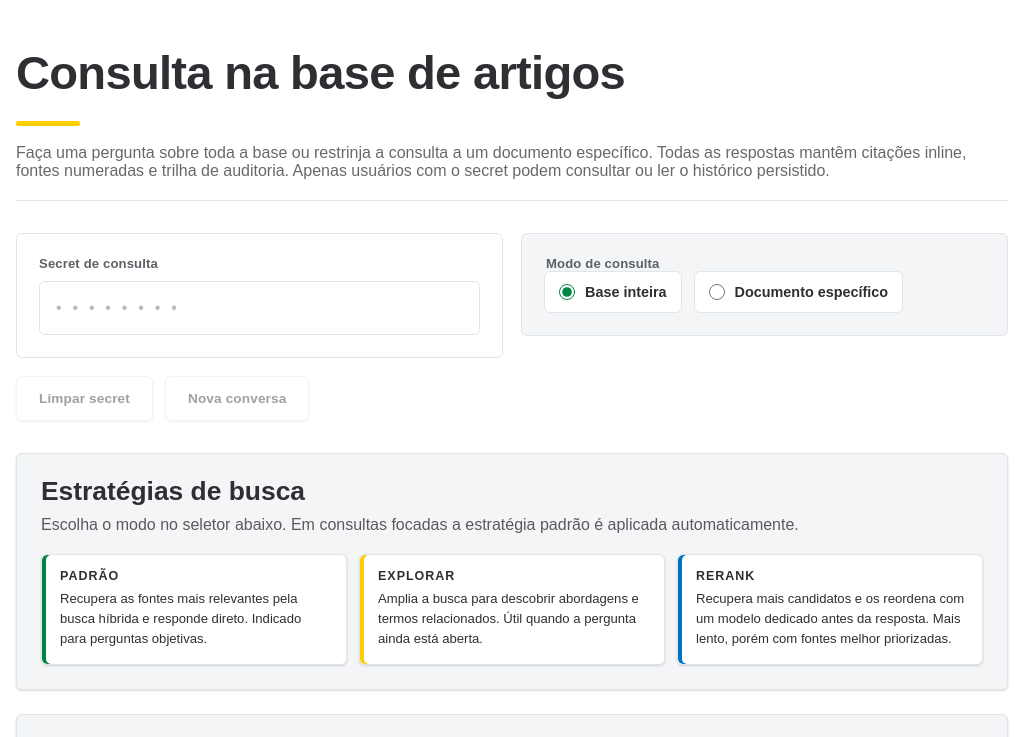
Test case: /query page › renders related terms inline during the explore stream
Type "query-secret-value" into the password field labelled "Secret de consulta" at coordinates (260, 308), box [39,281,480,335]
(page scrolled)
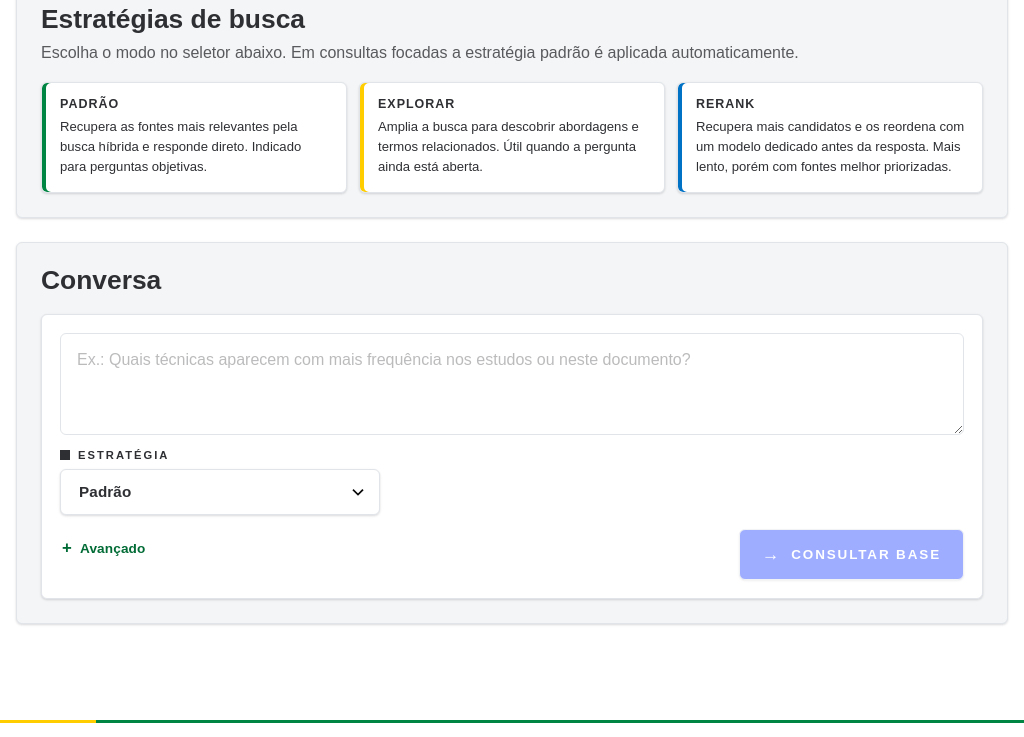
Replace the text in the text box named "pergunta" with "Quais tecnicas aparecem com mais frequencia?" at coordinates (512, 384), box [60,333,964,435]
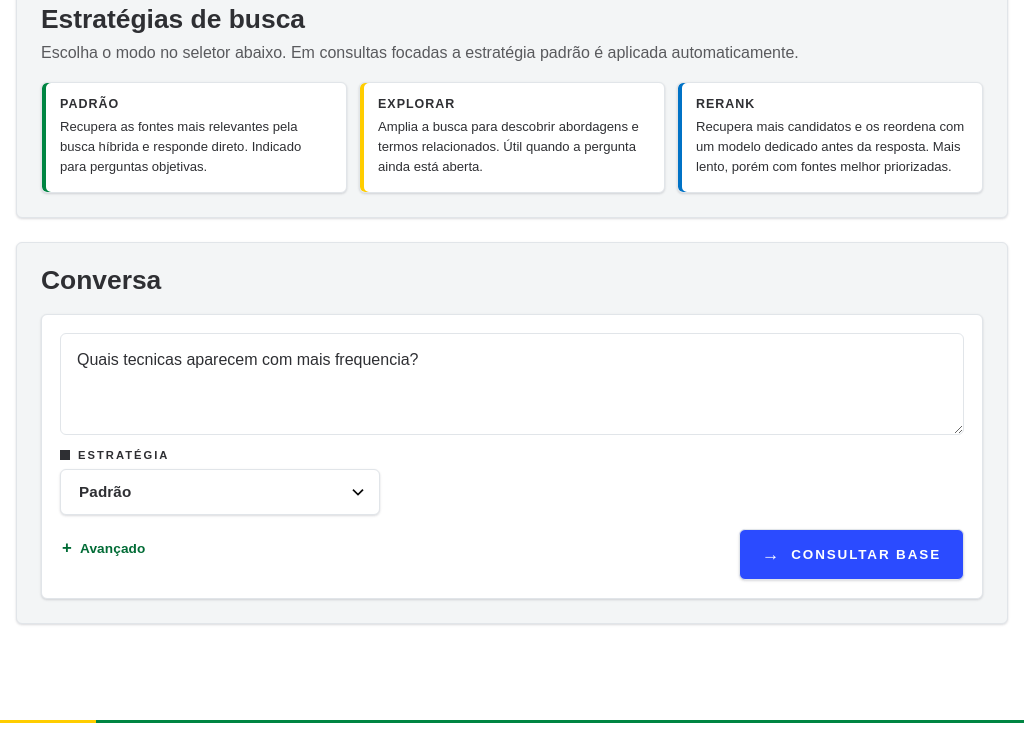
Select "Explorar" in the dropdown labelled "Estratégia" at coordinates (220, 492), box [60,469,380,515]
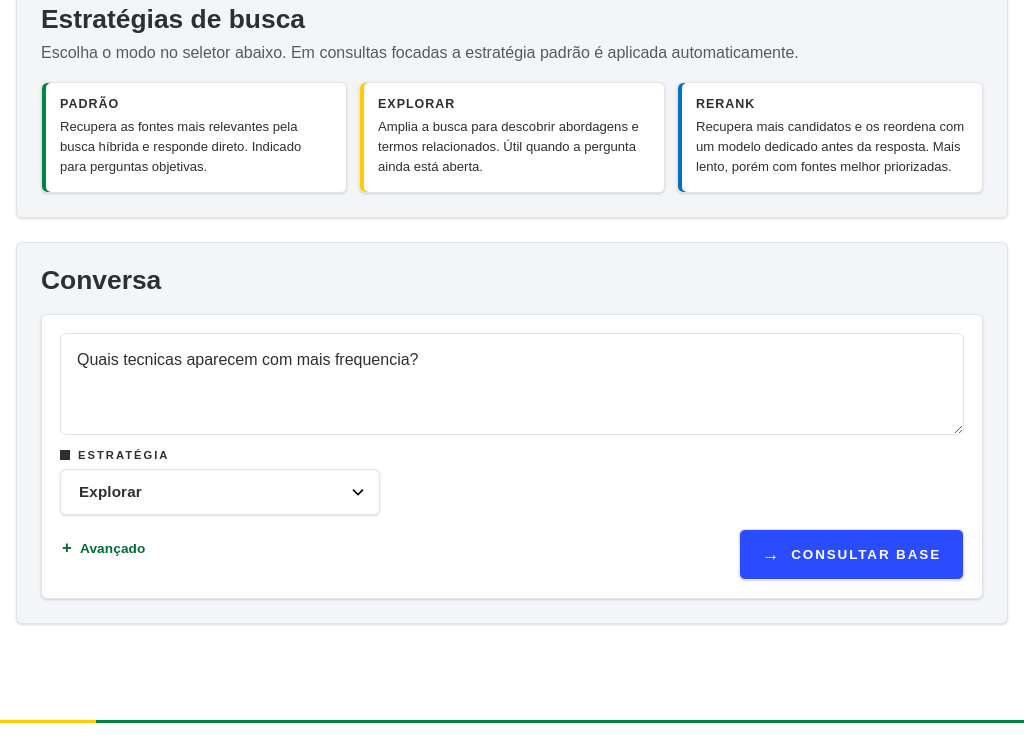
Click the button "Consultar base" at coordinates (851, 555), box [739,529,964,580]
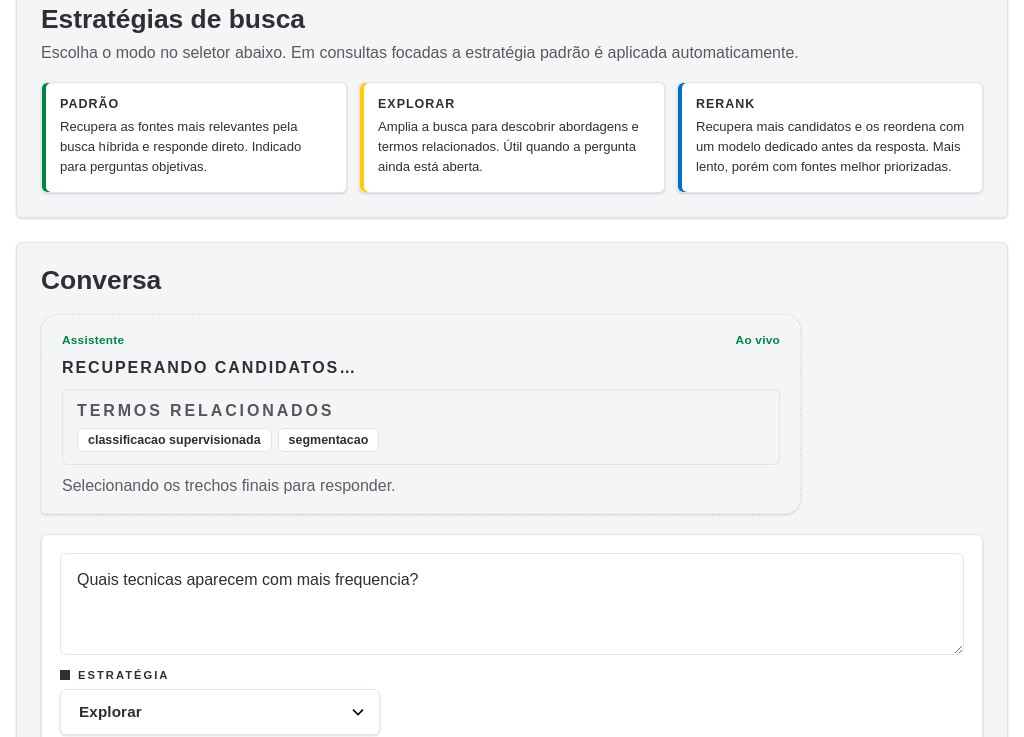
Now the list item "classificacao supervisionada" is shown, box [77,428,272,452]
Now the list item "segmentacao" is shown, box [278,428,379,452]
